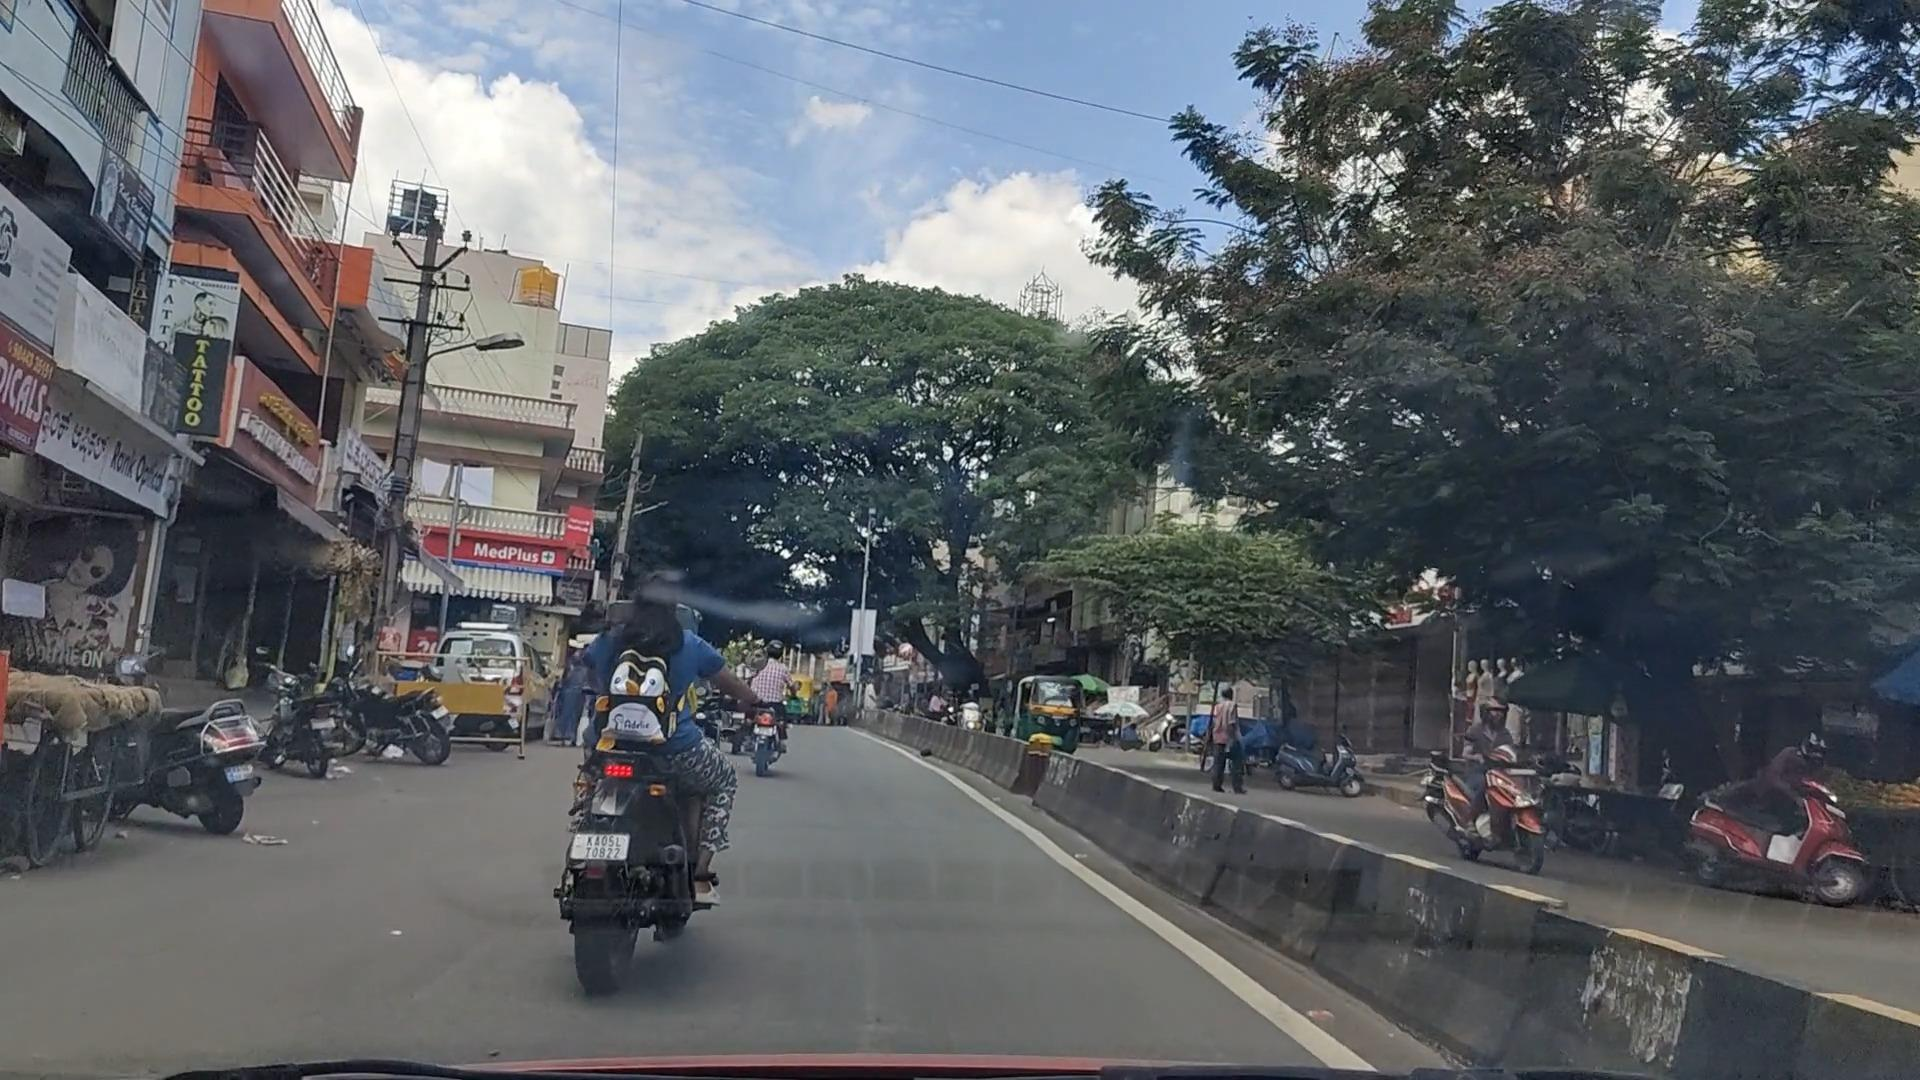LMV: (535, 538, 749, 993)
